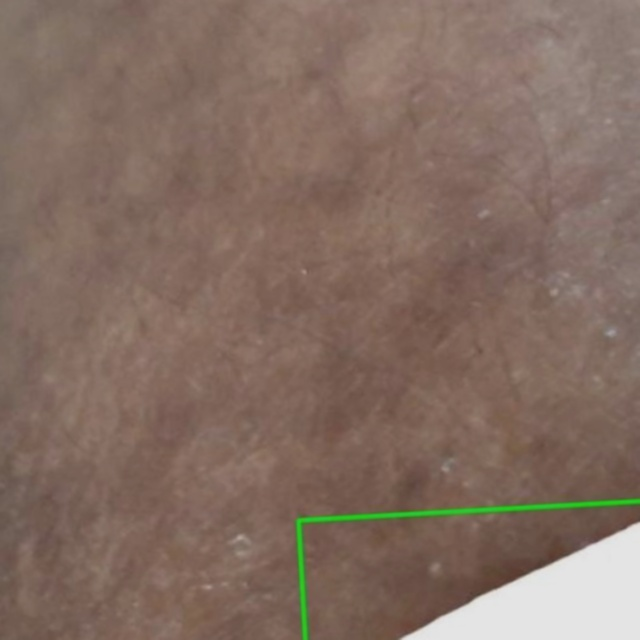Contact Dermatitis: (298, 501, 639, 639)
